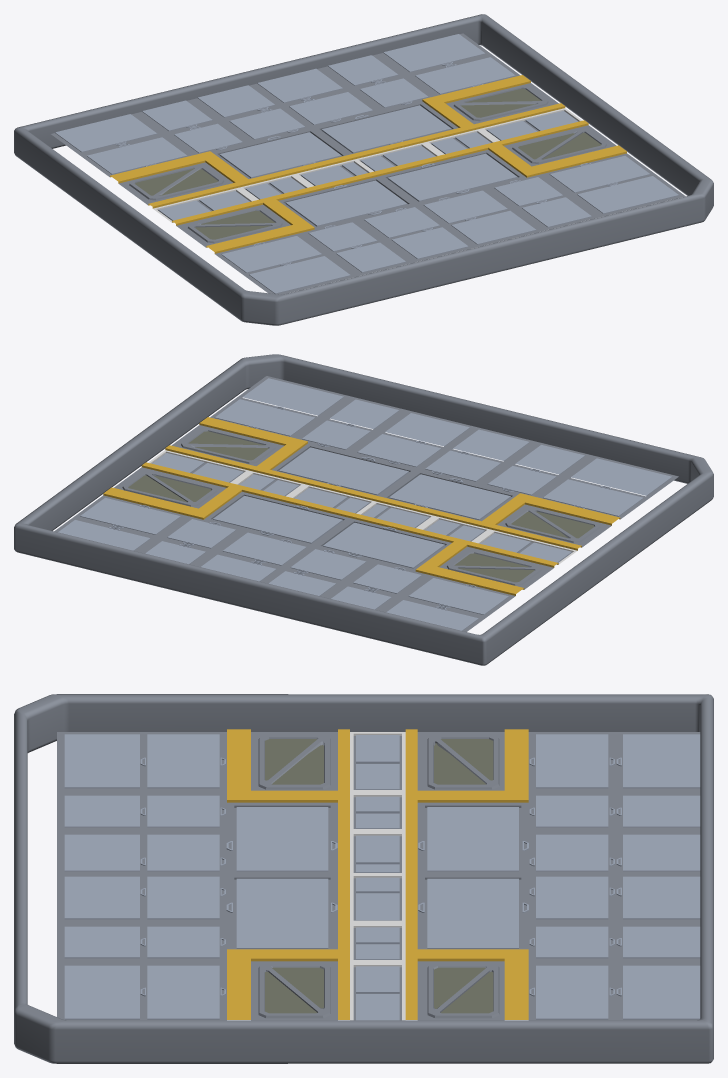
The model's file is Level38_Ground.fbx.
3 views of the same model, one above another, from view 1: azimuth 30°, elevation 25°; view 2: azimuth 150°, elevation 25°; view 3: azimuth 270°, elevation 25° (orthographic). The views are drawn at different scales.
Parts seen in each view (by area): view 1: Border1, pCube95 (×2), pCube100 (×4), pCube113 (×2), pPlane1 (×4), pCube87 (×4); view 2: Border1, pCube95 (×2), pCube100 (×4), pCube113 (×2), pPlane1 (×4), pCube87 (×4); view 3: pCube100 (×4), pCube95 (×2), Border1, pCube113 (×2), pPlane1 (×4), pCube87 (×4).
Boxes of the visible parts, x1,y1,x2,y2 form: Border1: (14,14,713,325); pCube95 (×2): (148,103,656,275); pCube100 (×4): (51,33,558,204); pCube113 (×2): (245,175,685,294); pPlane1 (×4): (135,88,601,239); pCube87 (×4): (129,85,606,243); Border1: (14,354,713,665); pCube95 (×2): (141,397,650,567); pCube100 (×4): (54,467,553,631); pCube113 (×2): (238,376,678,497); pPlane1 (×4): (128,431,594,582); pCube87 (×4): (122,428,600,585); pCube100 (×4): (417,729,700,1020); pCube95 (×2): (140,729,417,1020); Border1: (14,694,713,1063); pCube113 (×2): (57,732,139,1020); pPlane1 (×4): (265,739,493,1013); pCube87 (×4): (258,735,499,1018).
Size of the model in its own units: 641 by 36.61 by 570.
